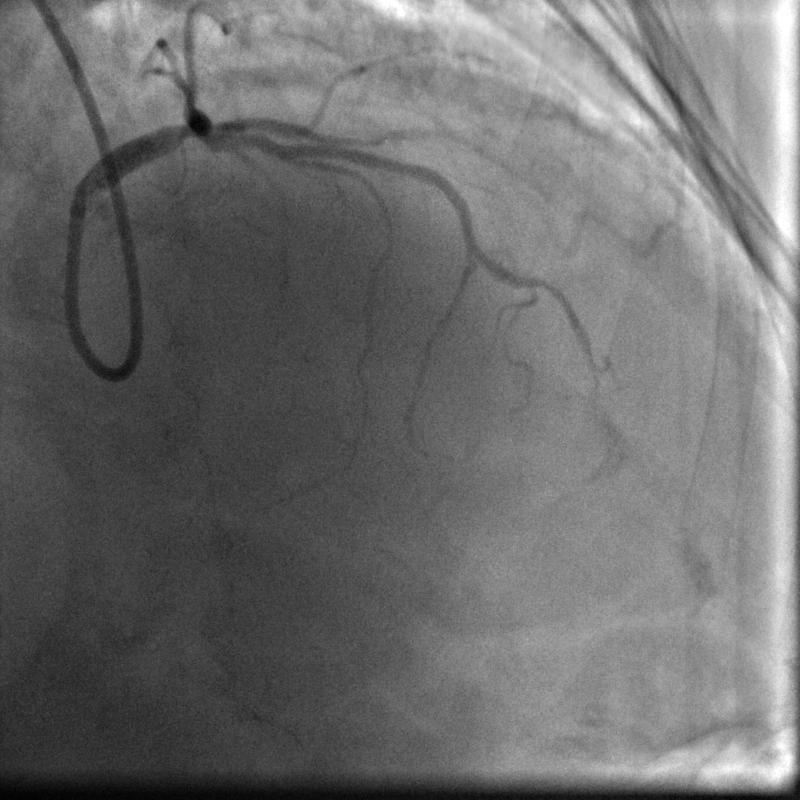Stenosis: (167, 104, 196, 156)
